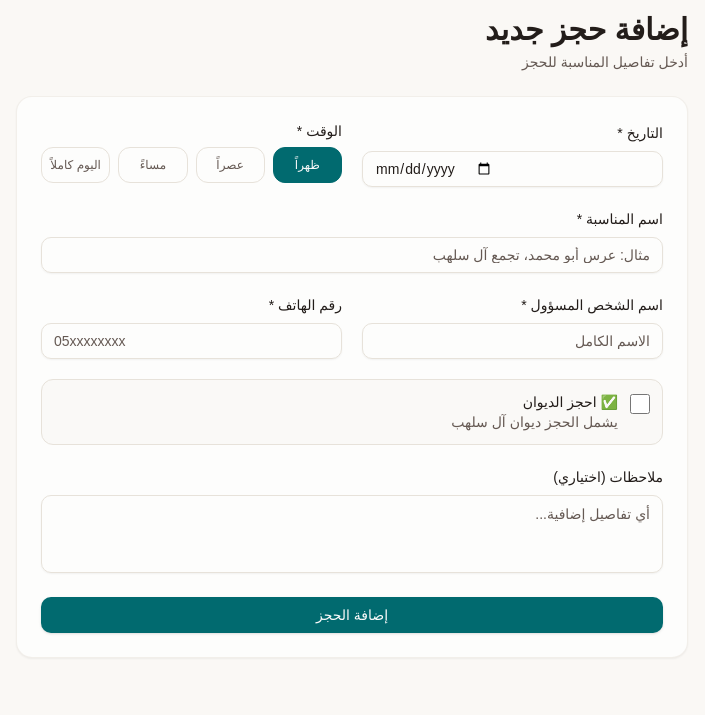
Test case: AddBookingPage: new booking › shows an error when saving fails and keeps the form
Type "2099-07-01" into the date field labelled "التاريخ *". click: (512, 169)
box: x1=362 y1=151 x2=663 y2=187
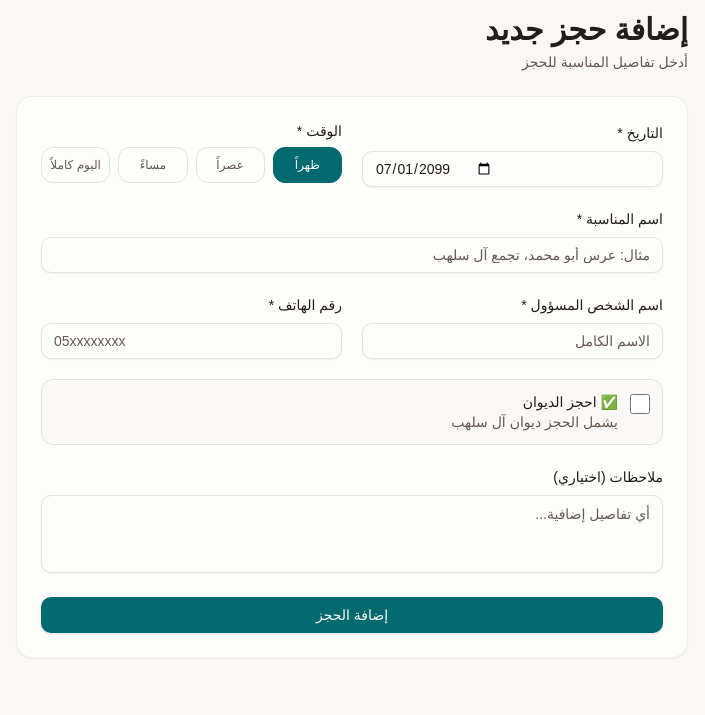
Type "عرس" into the field labelled "اسم المناسبة *". click: (352, 255)
box: x1=41 y1=237 x2=663 y2=273
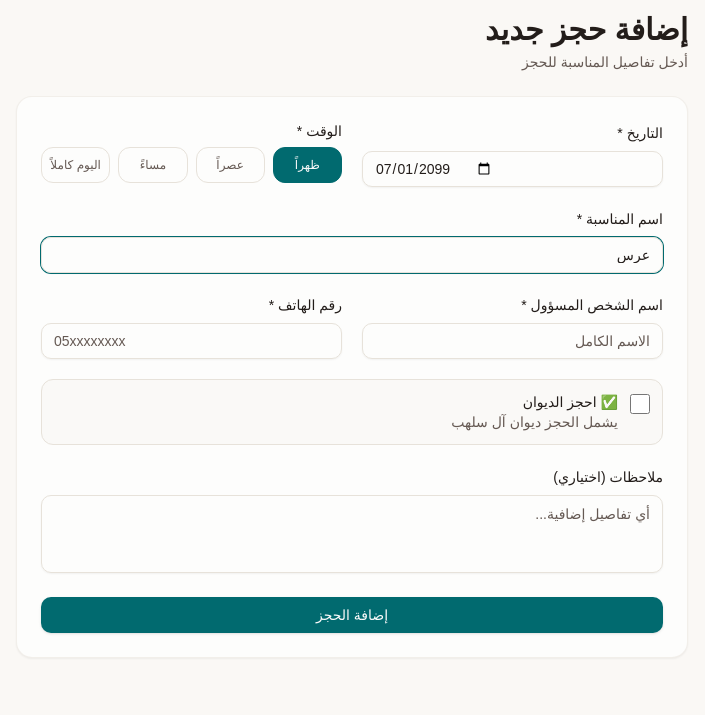
Type "أحمد" into the field labelled "اسم الشخص المسؤول *". click: (512, 341)
box: x1=362 y1=323 x2=663 y2=359
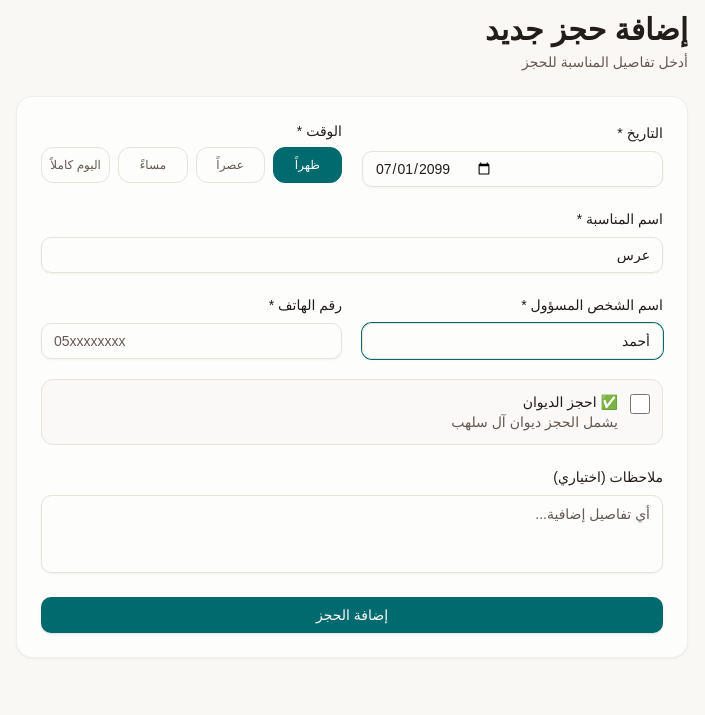
Type "0501234567" into the field labelled "رقم الهاتف *". click: (192, 341)
box: x1=41 y1=323 x2=342 y2=359
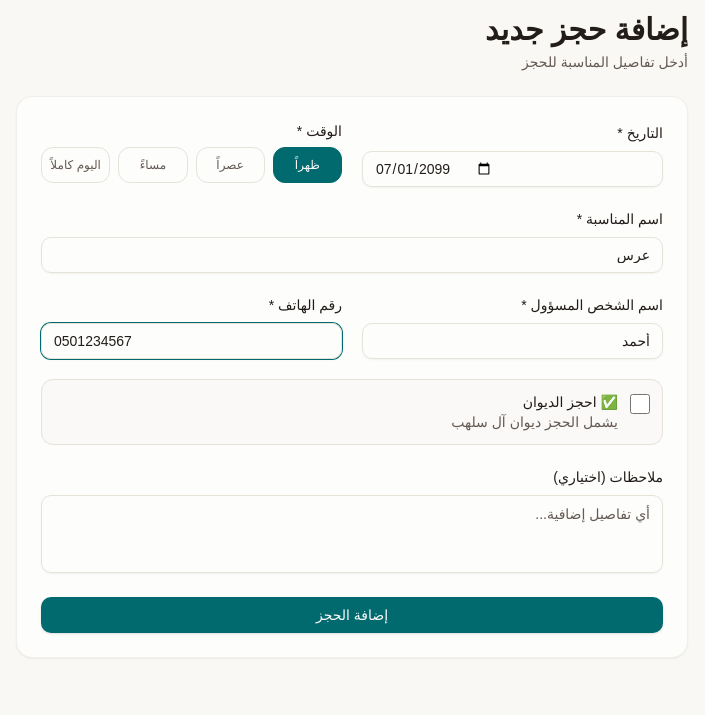
Click the button "إضافة الحجز". click: (352, 615)
box: x1=41 y1=597 x2=663 y2=633
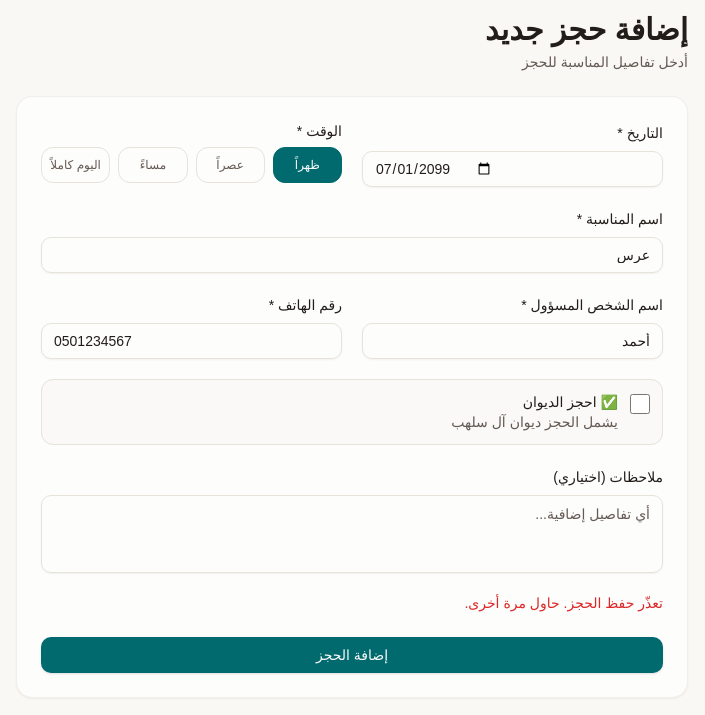
Expected: the text "تعذّر حفظ الحجز. حاول مرة أخرى." is shown, x1=464 y1=595 x2=663 y2=611
